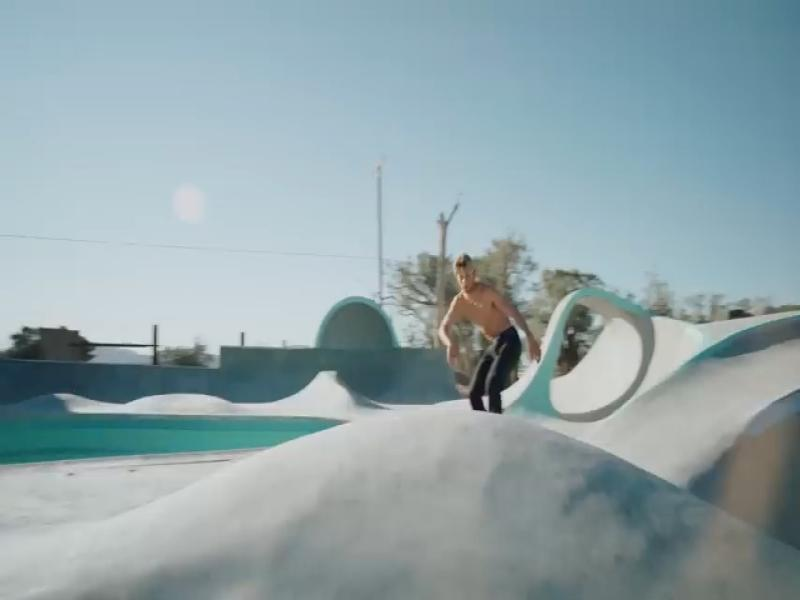person: (439, 254, 541, 412)
